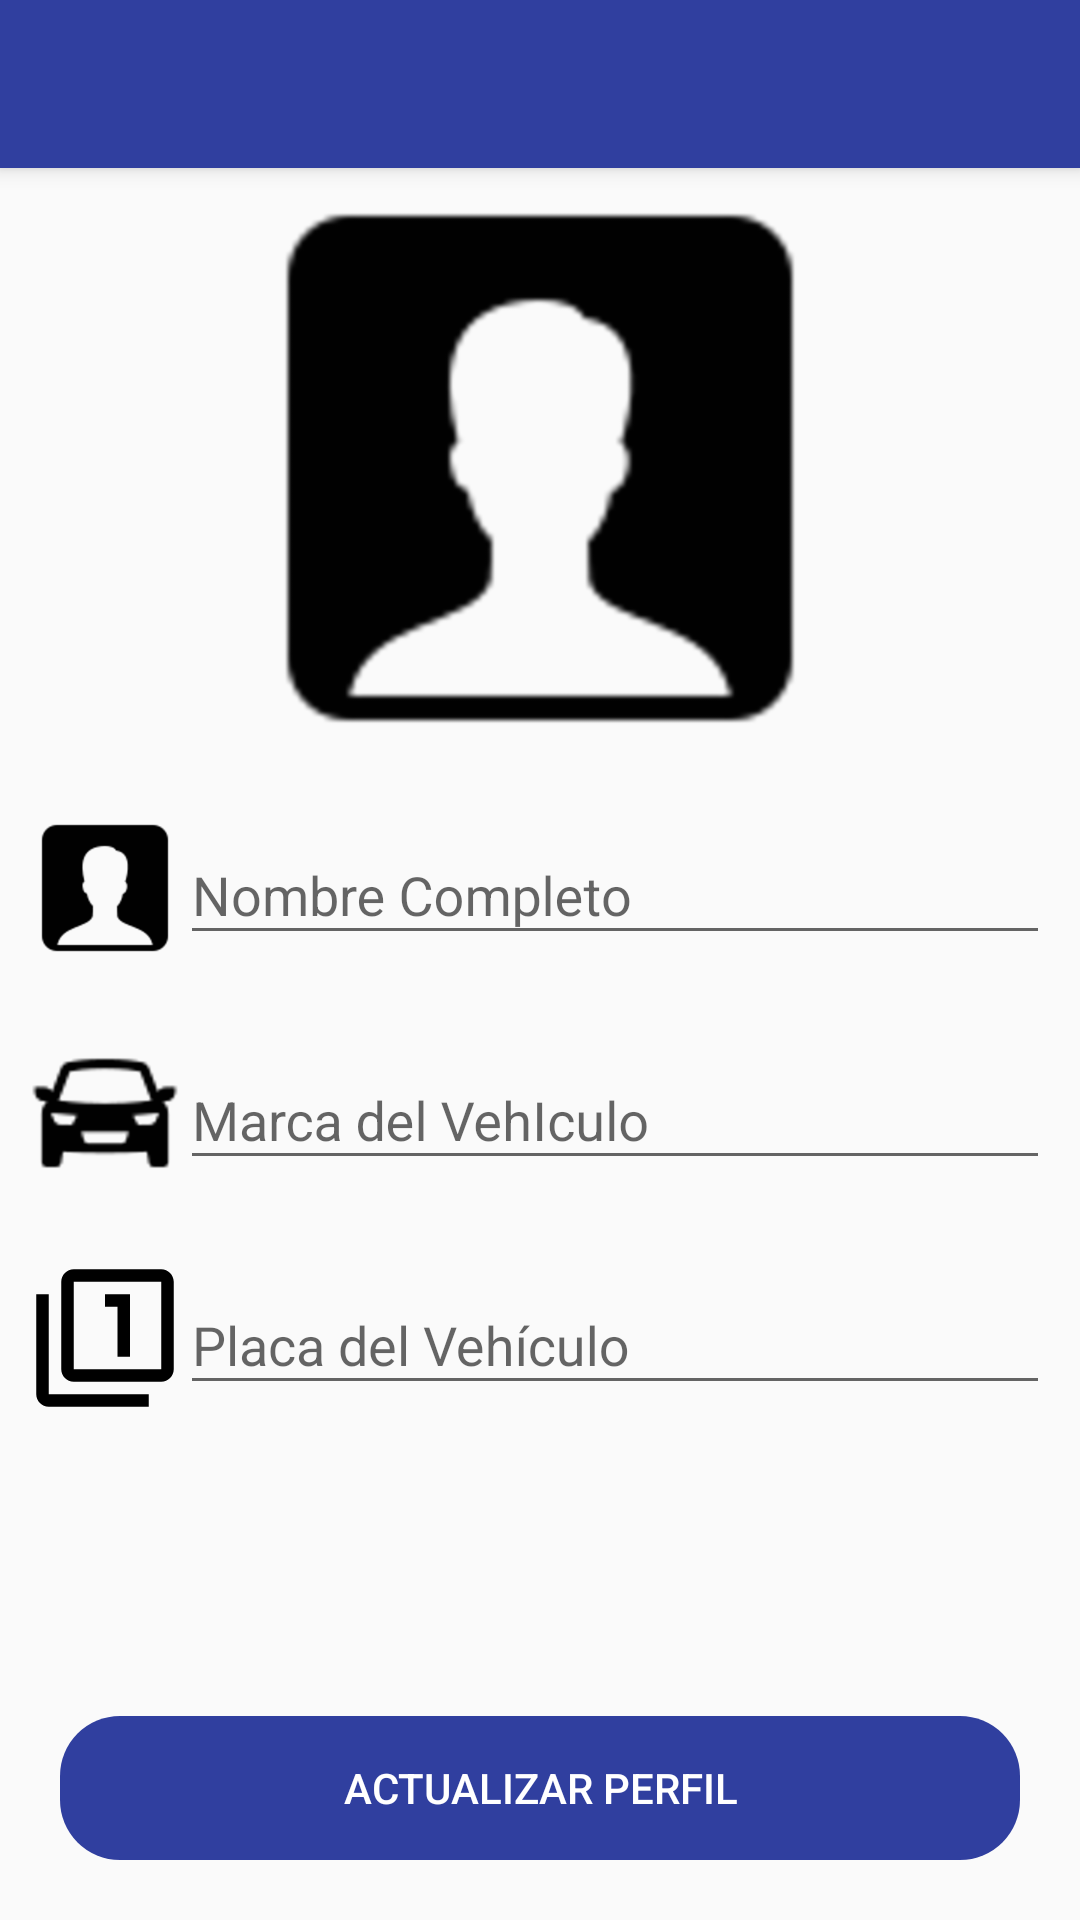

Named icons in this screenshot (1080*1920) and their centers, point (x, y):
car: point (105, 1113)
